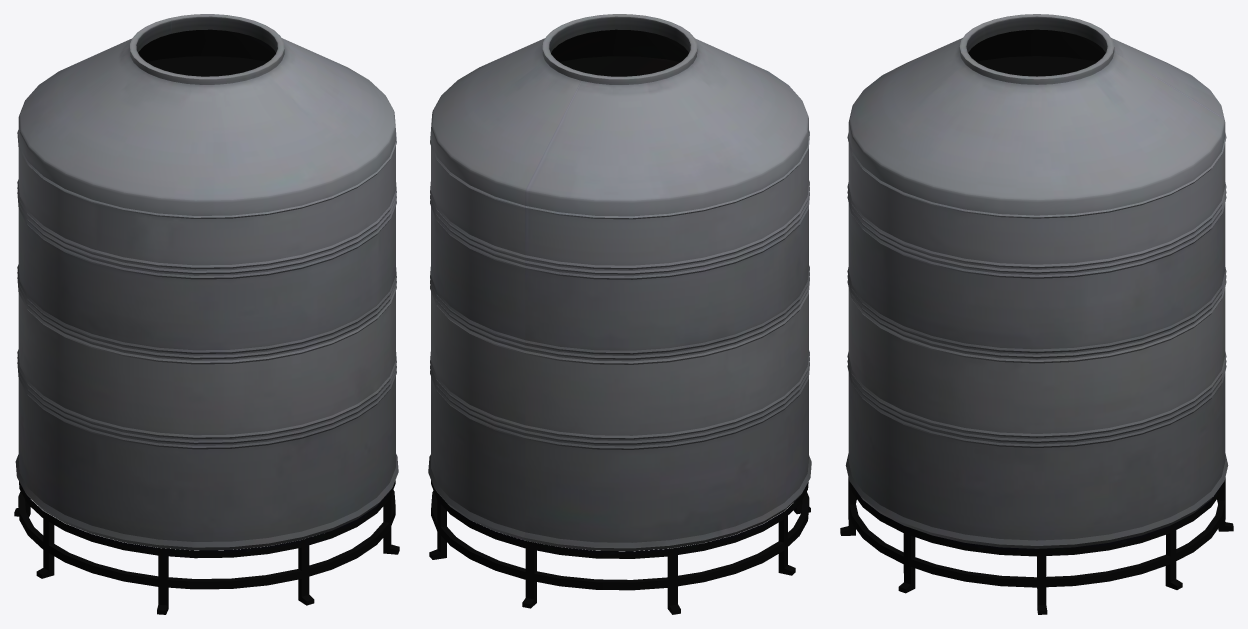
3 views of the same model, side by side, from view 1: azimuth 30°, elevation 25°; view 2: azimuth 150°, elevation 25°; view 3: azimuth 270°, elevation 25° (orthographic).
Parts seen in each view (by area): view 1: body0_model0_lod0_mesh0; view 2: body0_model0_lod0_mesh0; view 3: body0_model0_lod0_mesh0.
Part boxes in pixels (bbox=[...]): body0_model0_lod0_mesh0: bbox=[14, 14, 399, 614]; body0_model0_lod0_mesh0: bbox=[428, 14, 811, 614]; body0_model0_lod0_mesh0: bbox=[840, 14, 1233, 614].
Size of the model in its own units: 175 by 238 by 175.
1 material, 1 textured.
